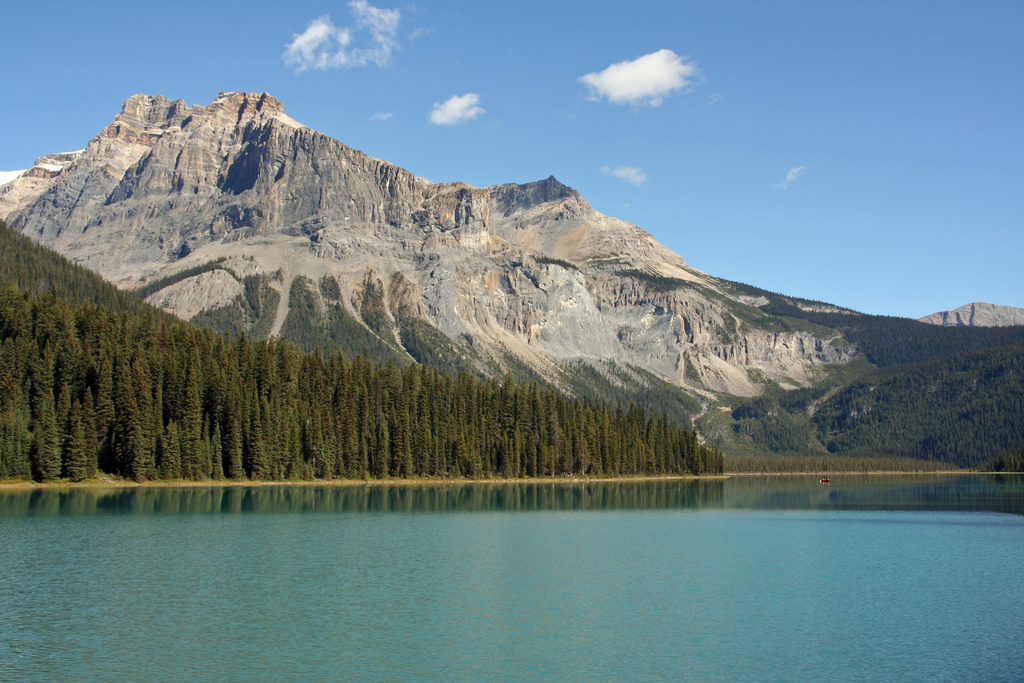Tree: (0, 220, 727, 488), (759, 297, 1023, 475)
